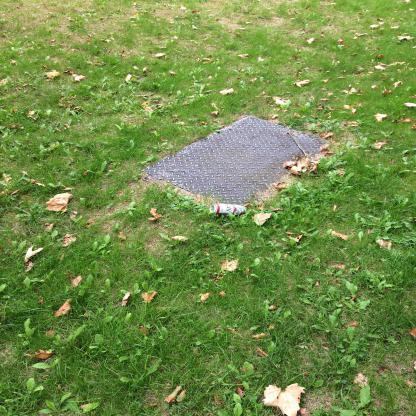metal: (210, 203, 246, 215)
